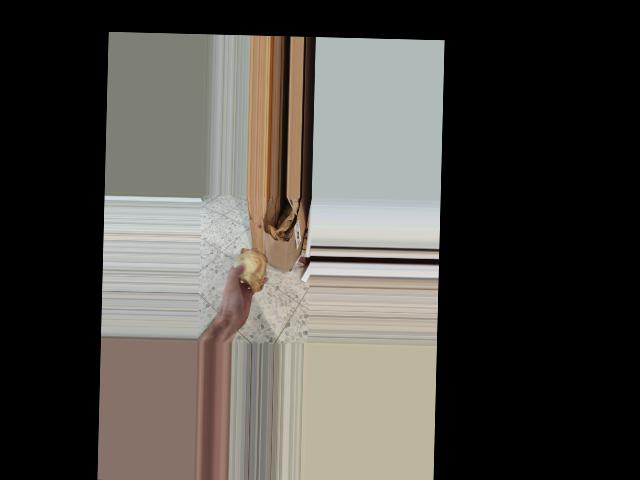onion: (232, 246, 269, 295)
